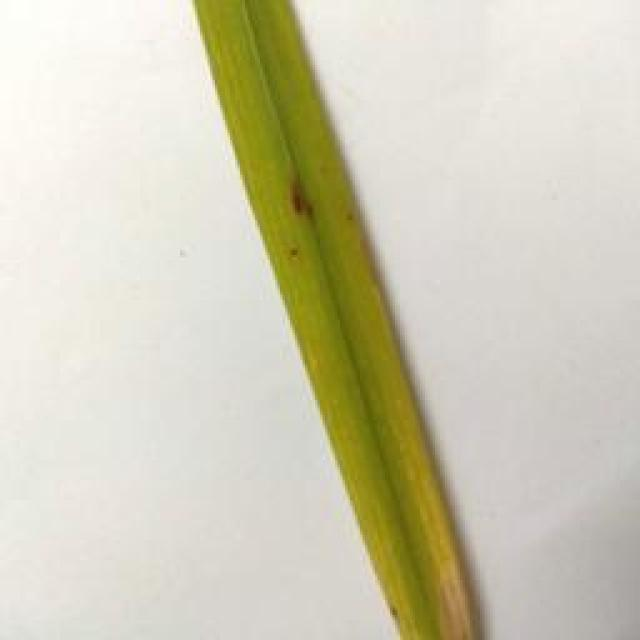Bacterial_Blight: (422, 555, 479, 640)
Brown_Spot: (282, 174, 321, 228), (280, 238, 302, 264), (343, 203, 360, 228), (383, 603, 398, 629)
